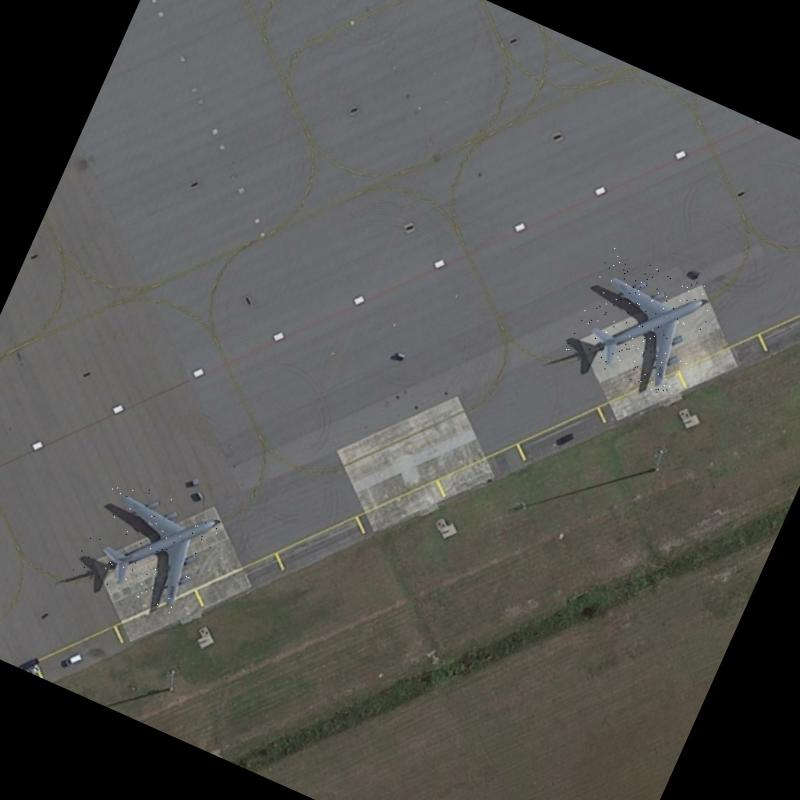A14: (564, 245, 719, 400), (72, 469, 226, 620)
